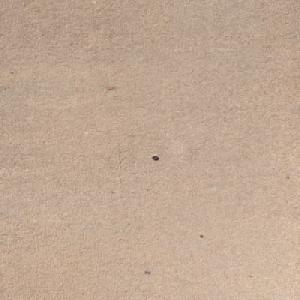Nut: (151, 155, 158, 159)
